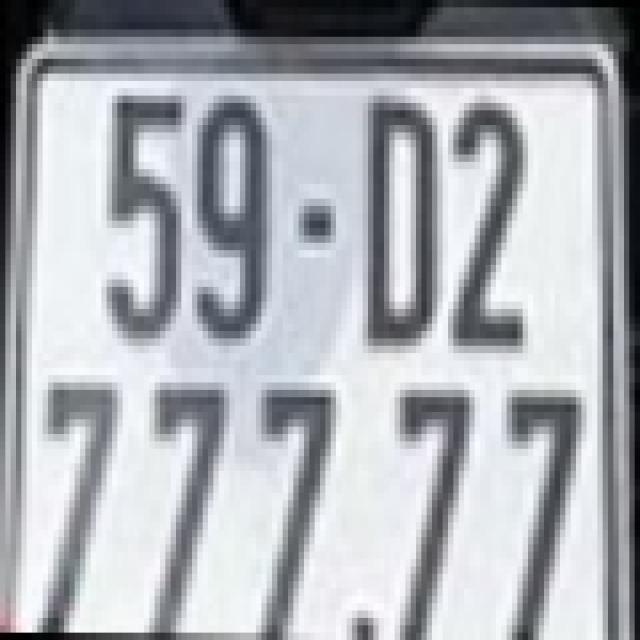2: (448, 96, 528, 346)
5: (106, 89, 186, 338)
7: (394, 382, 474, 632), (502, 382, 582, 632), (256, 382, 336, 632), (150, 382, 230, 626), (42, 382, 118, 626)
9: (192, 95, 272, 338)
D: (362, 96, 438, 346)
